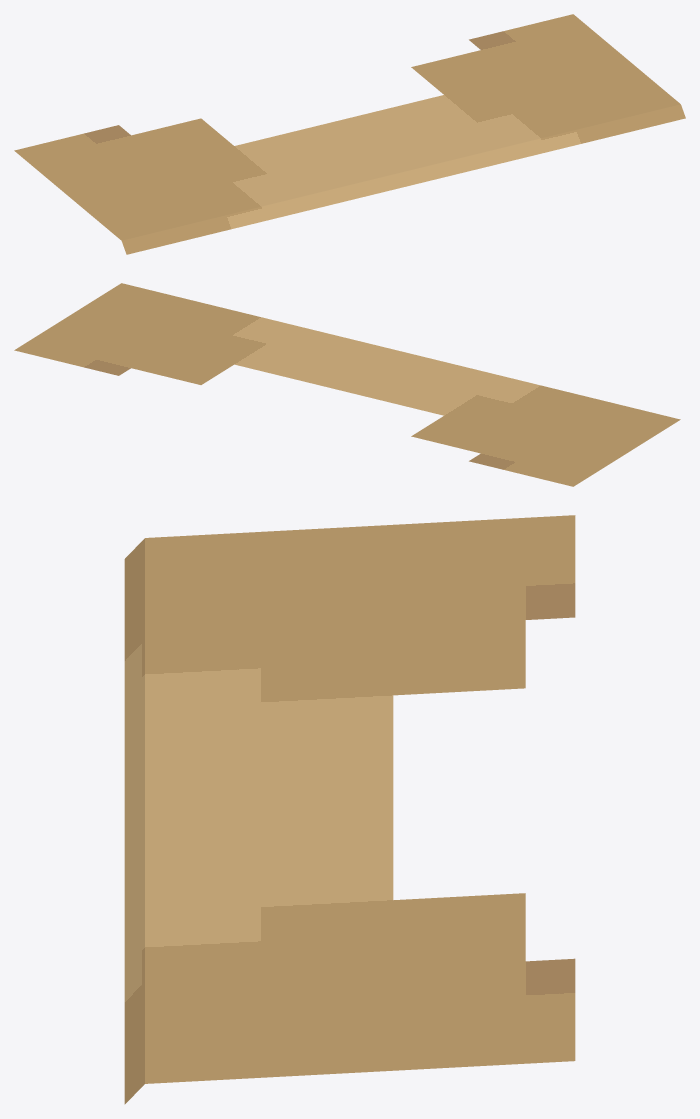
The picture shows the model from 3 angles, top to bottom: view 1: azimuth 30°, elevation 25°; view 2: azimuth 150°, elevation 25°; view 3: azimuth 270°, elevation 25°; orthographic projection. The views are drawn at different scales.
Bounding box in the file's own units: 1 × 0.0373 × 0.3486.
1 material, 1 textured.
